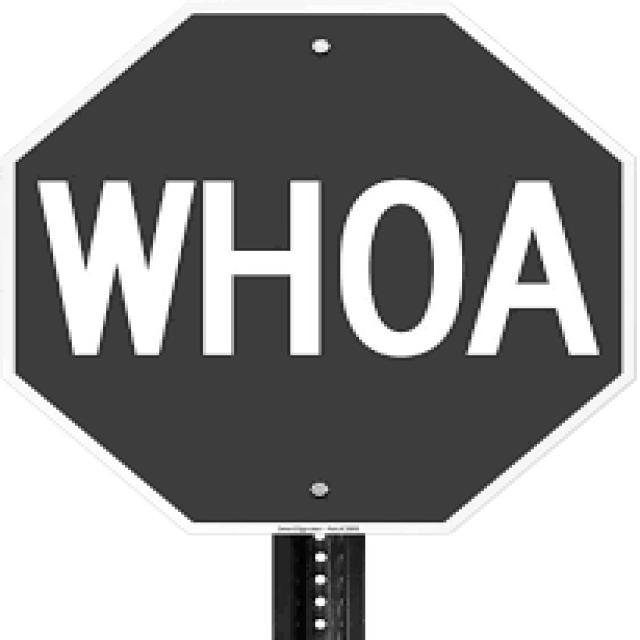stop sign: (13, 16, 628, 534)
